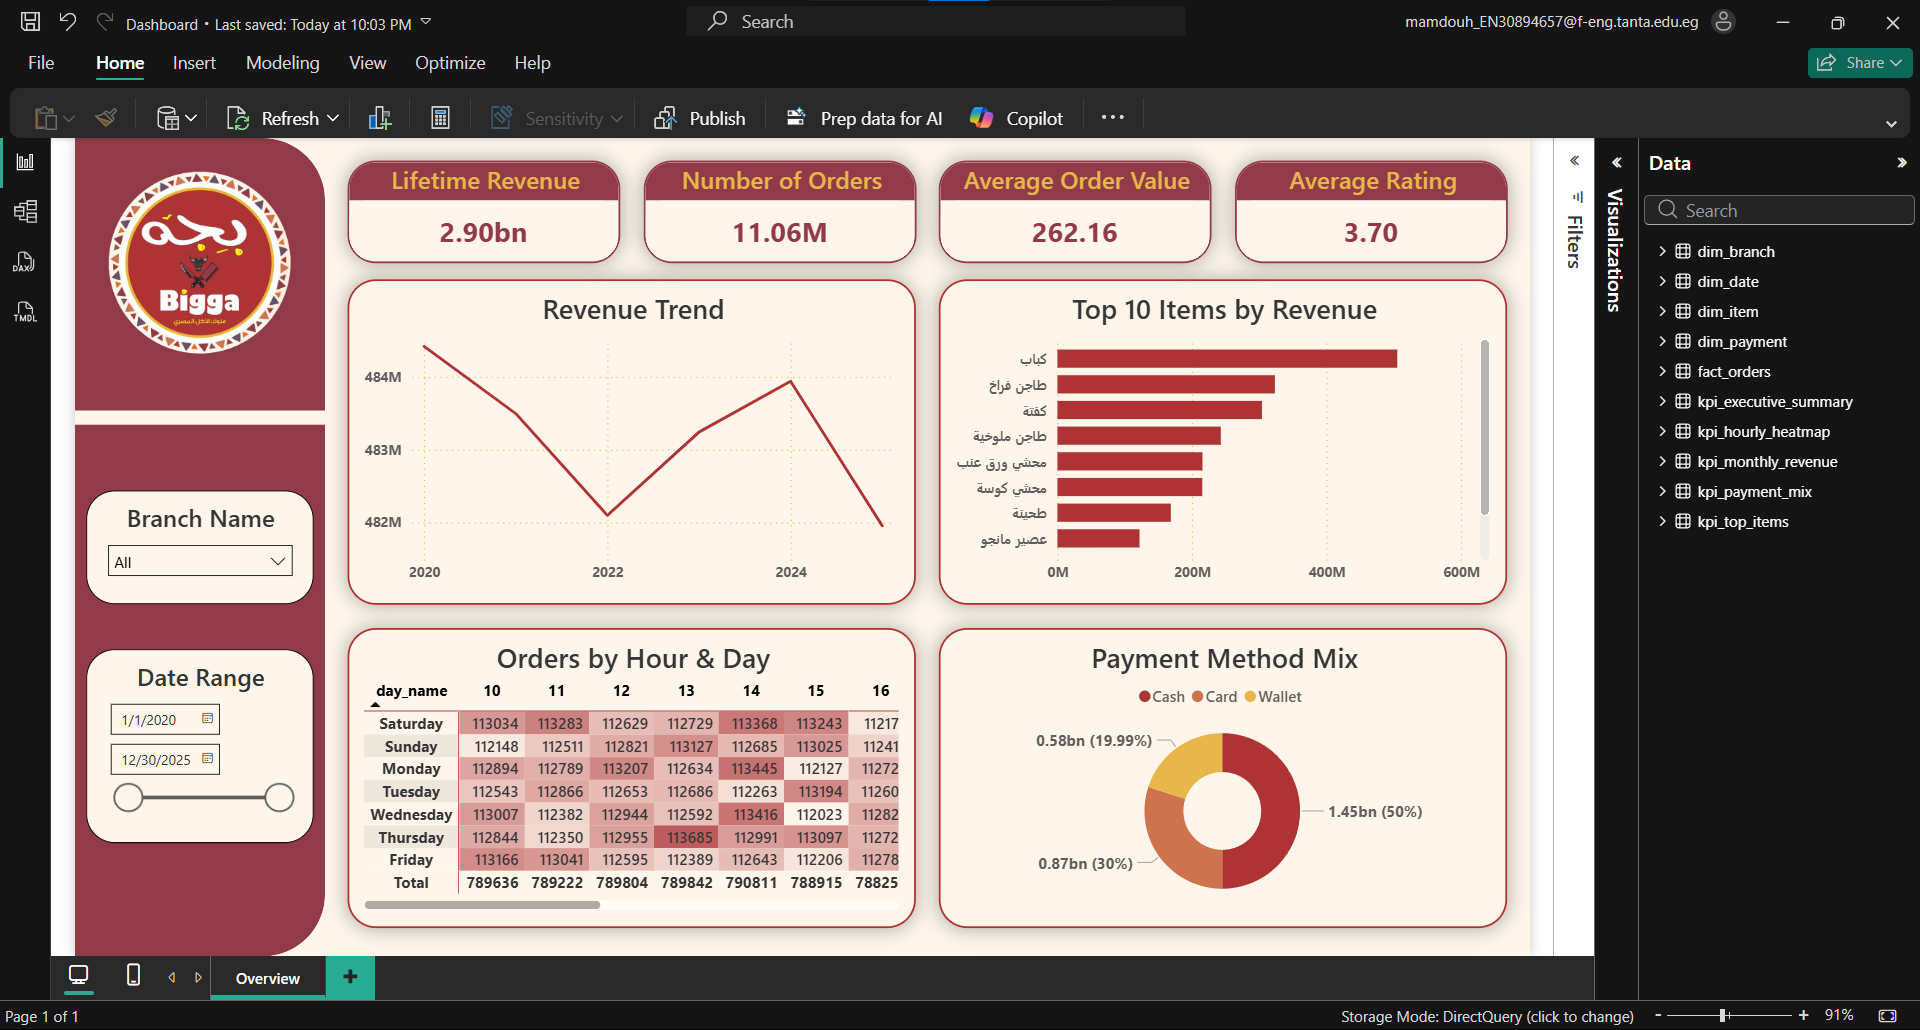

This screenshot's page, from the dashboard's own definition file:
{"tool":"powerbi","page":{"name":"Overview","canvas":[1280,720],"ordinal":0},"visuals":[{"type":"shape","box":[0,0,220,720],"z":0},{"type":"image","box":[30,30,160,160],"z":1000},{"type":"shape","box":[0,240,220,12.5],"z":2000},{"type":"slicer","title":"Branch Name","fields":{"Values":["dim_branch.branch_name_ar"]},"box":[10,310,200,100],"z":3000},{"type":"slicer","title":"Date Range","fields":{"Values":["dim_date.full_date"]},"box":[10,450,200,170],"z":4000},{"type":"cardVisual","title":"Lifetime Revenue","fields":{"Data":["Sum(fact_orders.total_amount)"]},"box":[240,20,240,90],"z":5000},{"type":"cardVisual","title":"Number of Orders","fields":{"Data":["CountNonNull(fact_orders.unique_order_id)"]},"box":[500,20,240,90],"z":6000},{"type":"cardVisual","title":"Average Order Value","fields":{"Data":["Avg(fact_orders.total_amount)"]},"box":[760,20,240,90],"z":7000},{"type":"cardVisual","title":"Average Rating","fields":{"Data":["Avg(fact_orders.rating)"]},"box":[1020,20,240,90],"z":8000},{"type":"lineChart","title":"Revenue Trend","fields":{"Y":["Sum(fact_orders.total_amount)"],"Category":["dim_date.Date Hierarchy.year","dim_date.Date Hierarchy.month","dim_date.Date Hierarchy.full_date"]},"box":[240,123.8,500,286.2],"z":9000},{"type":"clusteredBarChart","title":"Top 10 Items by Revenue","fields":{"Y":["Sum(fact_orders.total_amount)"],"Category":["dim_item.item_name"]},"box":[760,123.8,500,286.2],"z":10000},{"type":"pivotTable","title":"Orders by Hour & Day","fields":{"Columns":["fact_orders.hour"],"Values":["CountNonNull(fact_orders.unique_order_id)"],"Rows":["dim_date.day_name"]},"box":[240,431.2,500,263.8],"z":11000},{"type":"donutChart","title":"Payment Method Mix","fields":{"Y":["Sum(fact_orders.total_amount)"],"Category":["dim_payment.payment_method"]},"box":[760,431,500,264],"z":12000}]}

Visuals, with their boxes on the page's 1280x720 design canvas (x1, y1, x2, y2). These are canvas units, not pixel positions in the 1920x1030 screenshot, which may show the page scaled, cropped or inside an application window:
shape: 0:0:220:720
image: 30:30:190:190
shape: 0:240:220:252
"Branch Name" slicer: 10:310:210:410
"Date Range" slicer: 10:450:210:620
"Lifetime Revenue" cardVisual: 240:20:480:110
"Number of Orders" cardVisual: 500:20:740:110
"Average Order Value" cardVisual: 760:20:1000:110
"Average Rating" cardVisual: 1020:20:1260:110
"Revenue Trend" lineChart: 240:124:740:410
"Top 10 Items by Revenue" clusteredBarChart: 760:124:1260:410
"Orders by Hour & Day" pivotTable: 240:431:740:695
"Payment Method Mix" donutChart: 760:431:1260:695
